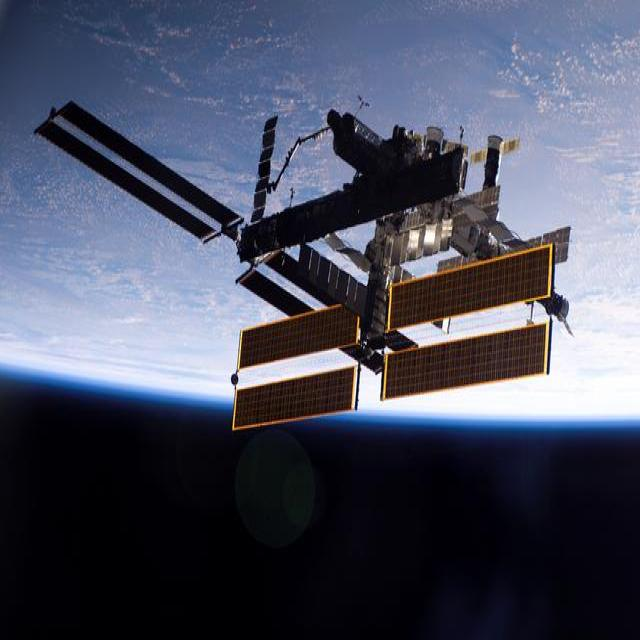satellite: (36, 102, 570, 429)
